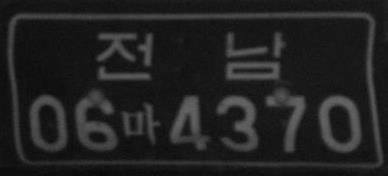0: (316, 93, 363, 154), (29, 94, 69, 152)
3: (214, 93, 259, 153)
4: (167, 94, 210, 151)
6: (74, 92, 119, 152)
7: (263, 94, 309, 154)
마: (121, 101, 161, 145)
전남_D: (97, 30, 287, 83)
